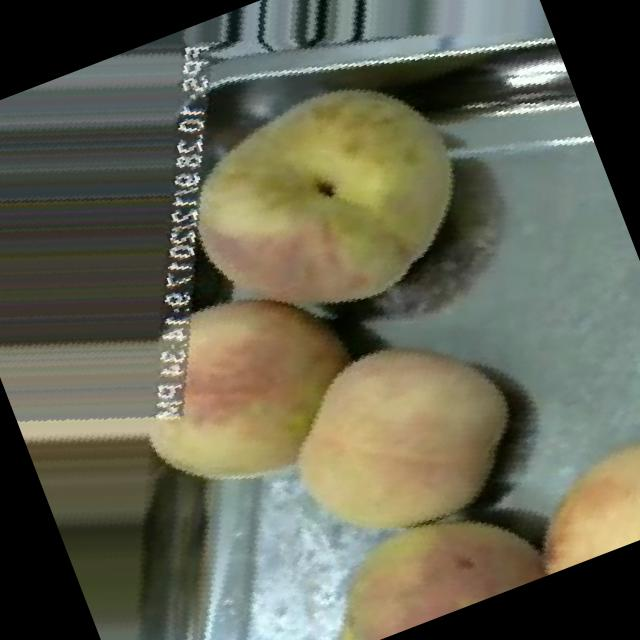Fruit: (116, 15, 529, 396), (76, 228, 408, 551), (224, 274, 561, 576), (273, 459, 573, 640), (481, 392, 640, 584)
